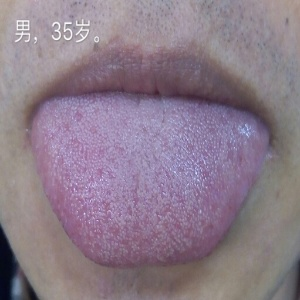st: (31, 105, 263, 272)
